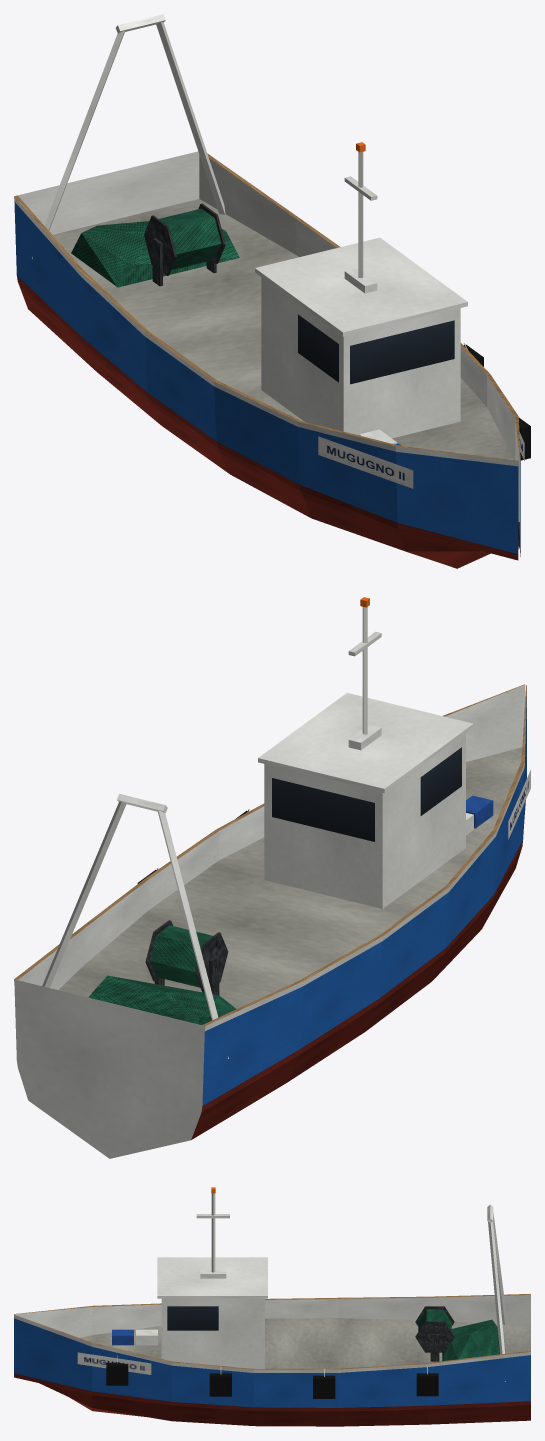
File: SM_Molo_Peschereccio14_LOD2.fbx
3 views of the same model, one above another, from view 1: azimuth 30°, elevation 25°; view 2: azimuth 150°, elevation 25°; view 3: azimuth 270°, elevation 25° (orthographic). The views are drawn at different scales.
Parts seen in each view (by area): view 1: SM_Molo_Peschereccio14_LOD2; view 2: SM_Molo_Peschereccio14_LOD2; view 3: SM_Molo_Peschereccio14_LOD2.
Boxes of the visible parts, box(x1,y1,x2,y2) form: SM_Molo_Peschereccio14_LOD2: box(14, 14, 530, 568); SM_Molo_Peschereccio14_LOD2: box(14, 597, 530, 1158); SM_Molo_Peschereccio14_LOD2: box(14, 1187, 530, 1426).
Size of the model in its own units: 482 by 1400 by 692.
1 material, 1 textured.
